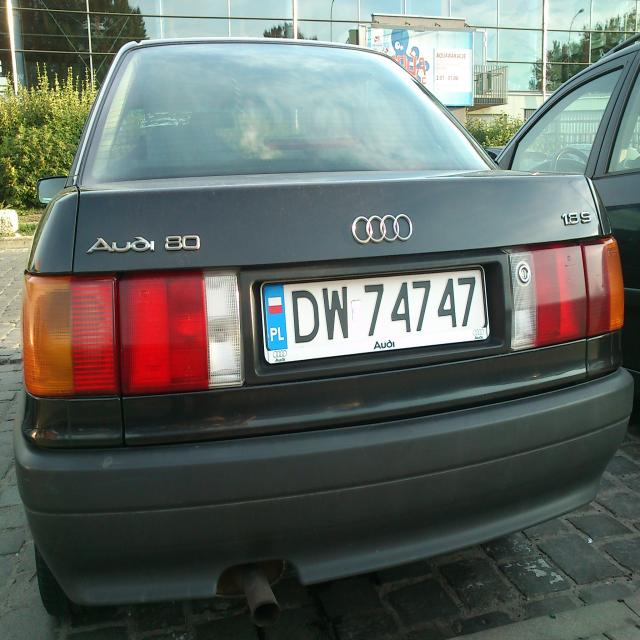pl_license_plate: (259, 268, 487, 350)
